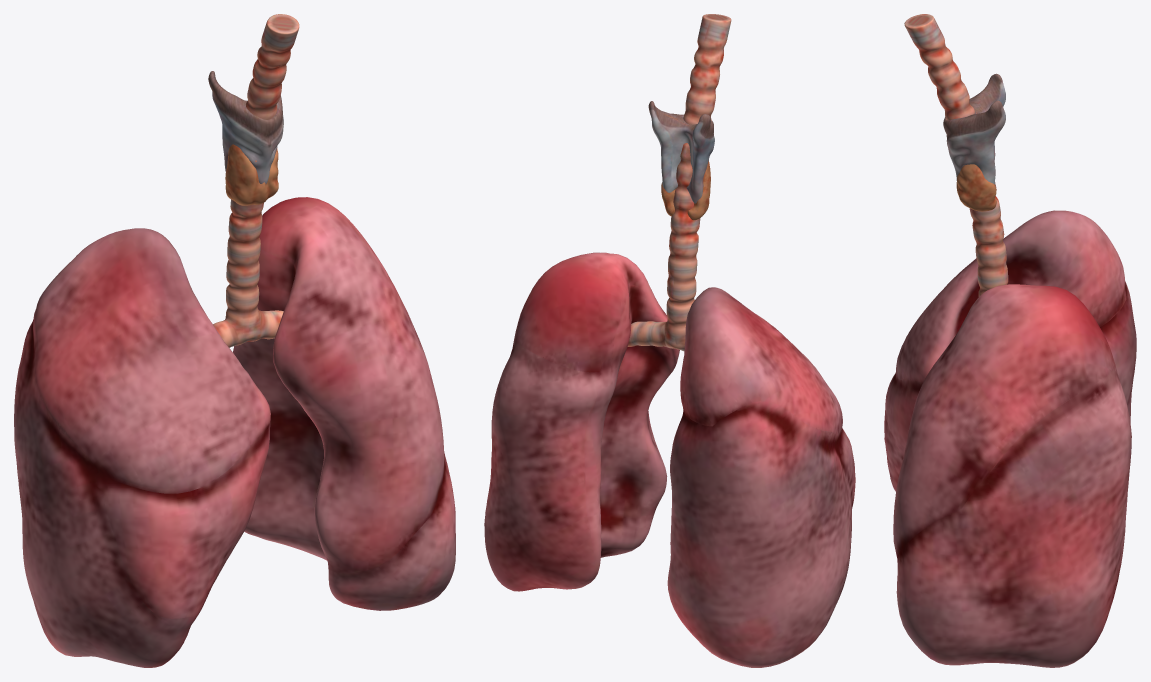
Rendered from complete-respiratory-system.glb.
The picture shows the model from 3 angles, left to right: view 1: azimuth 30°, elevation 25°; view 2: azimuth 150°, elevation 25°; view 3: azimuth 270°, elevation 25°; orthographic projection. The views are drawn at different scales.
Visible parts, largest first — view 1: DownRespiratorySystem, UpRespiratorySystem; view 2: DownRespiratorySystem, UpRespiratorySystem; view 3: DownRespiratorySystem, UpRespiratorySystem.
Part boxes in pixels (x1,y1,x2,y2): DownRespiratorySystem: [14, 197, 455, 667]; UpRespiratorySystem: [208, 14, 299, 347]; DownRespiratorySystem: [484, 252, 855, 667]; UpRespiratorySystem: [627, 14, 731, 351]; DownRespiratorySystem: [884, 210, 1136, 667]; UpRespiratorySystem: [904, 14, 1008, 296].
Bounding box in the file's own units: 0.2779 × 0.4588 × 0.1771.
Materials: 2 (2 with a texture image).
